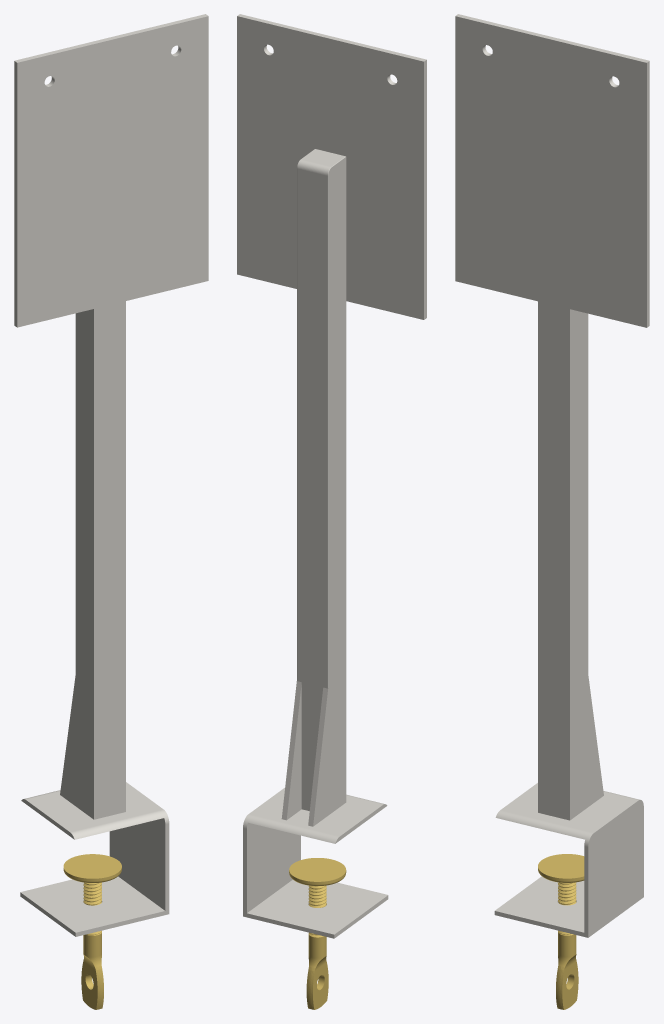
Rendered from eliot_stand 3 sidde v1.gltf.
The picture shows the model from 3 angles, left to right: view 1: azimuth 30°, elevation 25°; view 2: azimuth 150°, elevation 25°; view 3: azimuth 330°, elevation 25°; orthographic projection. The views are drawn at different scales.
Visible parts, largest first — view 1: Node2, Node1; view 2: Node2, Node1; view 3: Node2, Node1.
Boxes of the visible parts, <box> form: Node2: <box>14,14,208,936</box>; Node1: <box>63,854,121,1009</box>; Node2: <box>237,14,426,938</box>; Node1: <box>289,858,346,1009</box>; Node2: <box>455,14,649,937</box>; Node1: <box>538,854,584,1009</box>.
Bounding box in the file's own units: 75.7 × 370 × 38.
